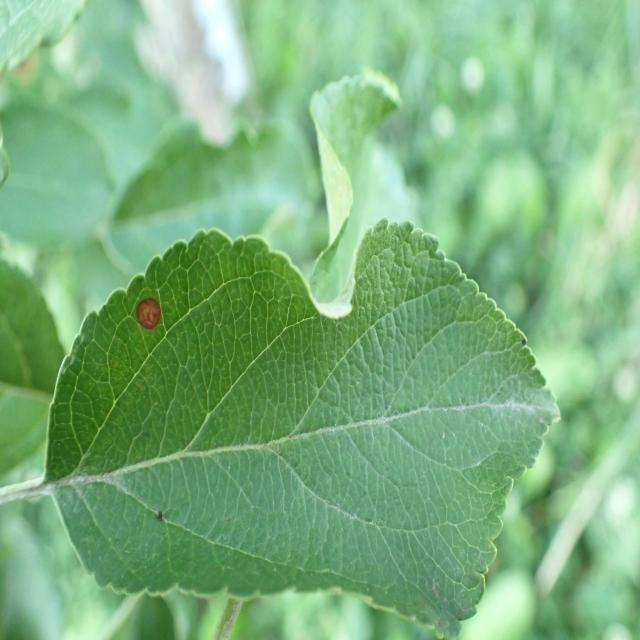Black Rot: (131, 280, 178, 355)
